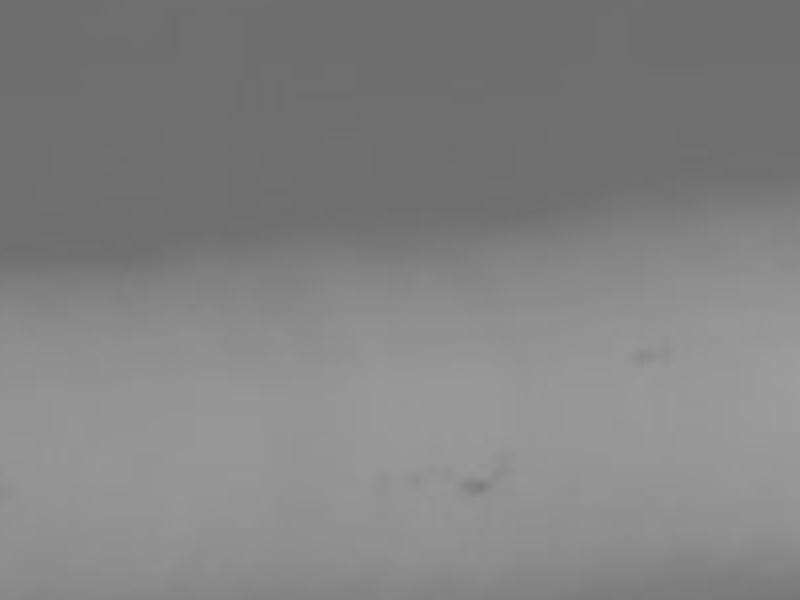defect: (634, 344, 663, 372), (487, 449, 514, 475), (464, 478, 488, 499), (404, 473, 421, 493)
